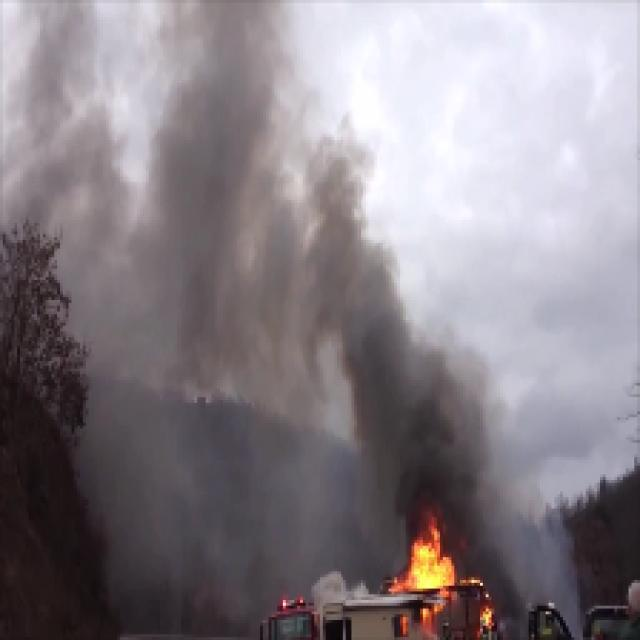Fire: (402, 532, 454, 588)
Smoke: (110, 46, 316, 343), (332, 282, 458, 502)
